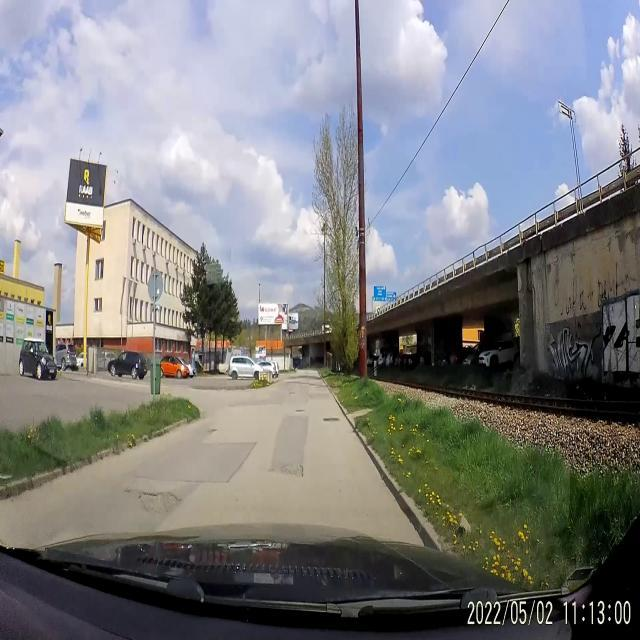Manhole: (322, 414, 340, 423)
Pothole: (122, 485, 184, 517), (266, 461, 306, 478), (204, 426, 219, 436), (294, 408, 306, 412), (289, 390, 296, 396)
